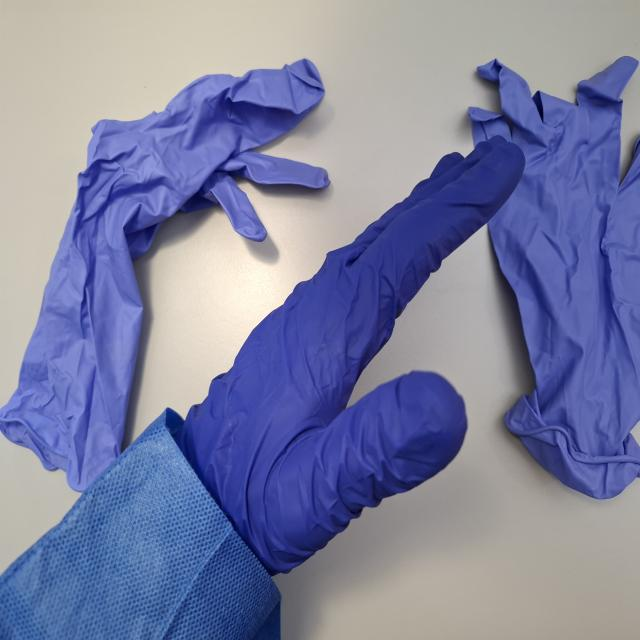glove_on: (173, 130, 528, 583)
